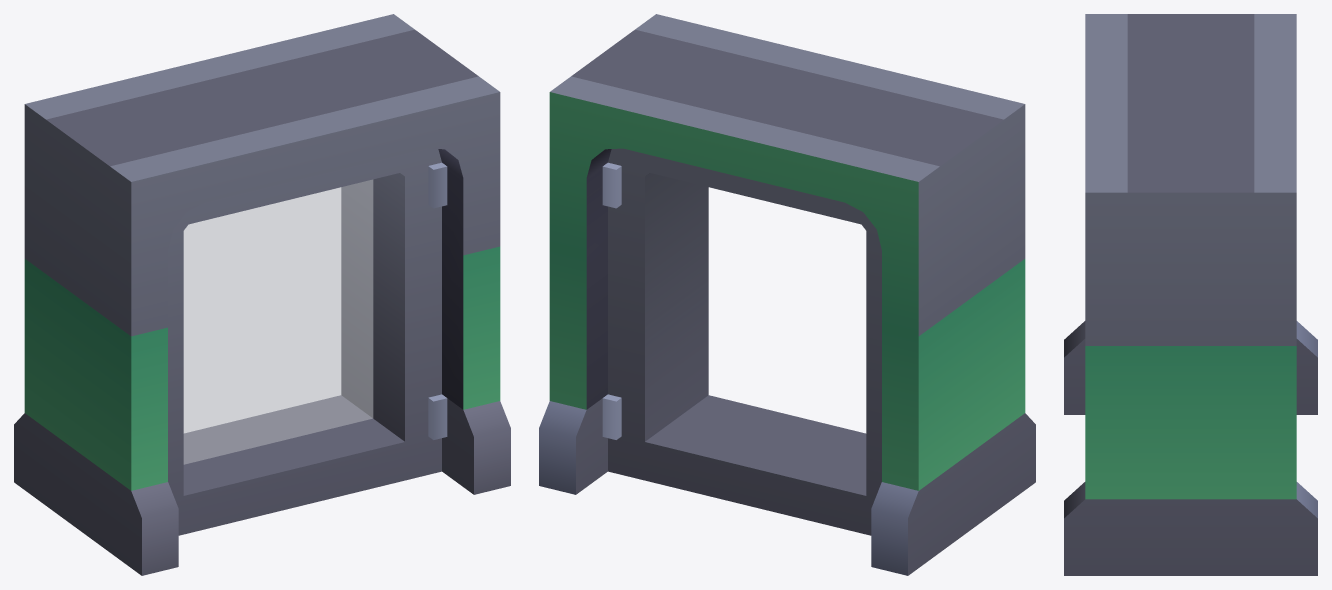
Rendered from wall-window.glb.
3 renders of one model, left to right at view 1: azimuth 30°, elevation 25°; view 2: azimuth 150°, elevation 25°; view 3: azimuth 270°, elevation 25°, orthographic.
Parts seen in each view (by area): view 1: wall-window, Group, (%ignore); view 2: wall-window, Group; view 3: wall-window.
Part boxes in pixels (x1,y1,x2,y2): wall-window: (14,14,510,575); Group: (168,148,441,535); (%ignore): (183,179,373,464); wall-window: (539,14,1035,575); Group: (608,148,881,535); wall-window: (1064,14,1317,575).
Bounding box in the file's own units: 1 × 1 × 0.6.
Materials: 2 (1 with a texture image).
